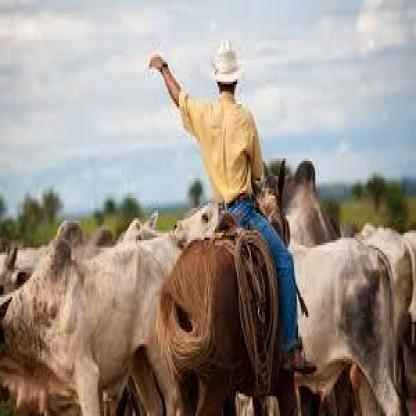cow: (172, 198, 397, 416), (0, 233, 184, 416), (355, 220, 416, 416), (0, 239, 31, 298)
